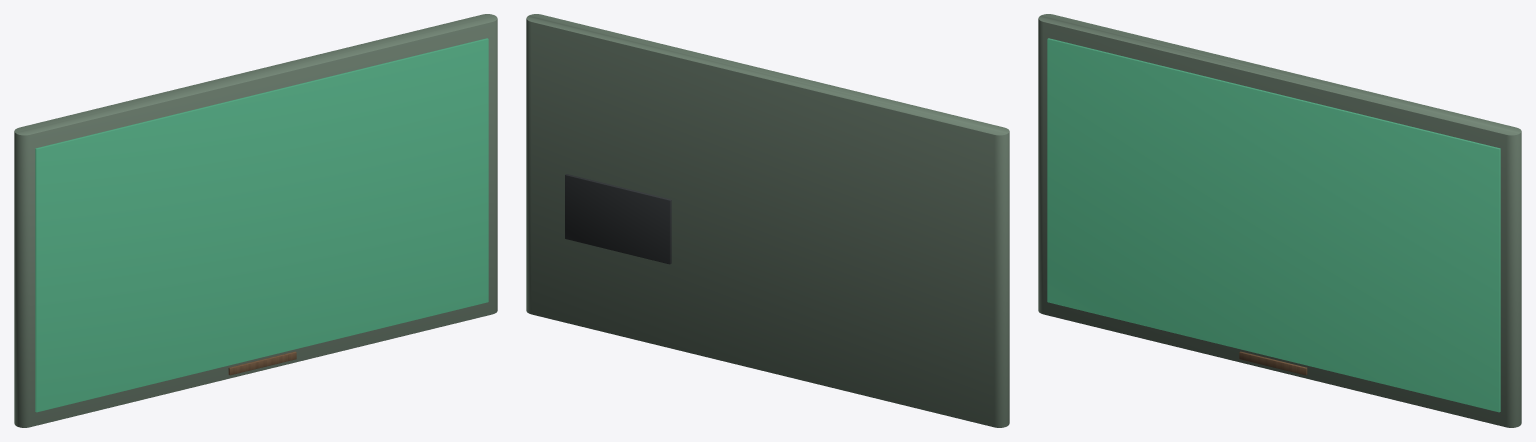
Rendered from display_tv_high_end.glb.
3 renders of one model, left to right at view 1: azimuth 30°, elevation 25°; view 2: azimuth 150°, elevation 25°; view 3: azimuth 330°, elevation 25°, orthographic.
Parts seen in each view (by area): view 1: DisplayTV_Screen, DisplayTV_Back, DisplayTV_CommercialBadge; view 2: DisplayTV_Back, DisplayTV_InputPanel; view 3: DisplayTV_Screen, DisplayTV_Back, DisplayTV_CommercialBadge.
Boxes of the visible parts, bbox=[...] form: DisplayTV_Screen: bbox=[35, 38, 488, 412]; DisplayTV_Back: bbox=[14, 14, 497, 427]; DisplayTV_CommercialBadge: bbox=[228, 351, 296, 375]; DisplayTV_Back: bbox=[526, 14, 1009, 427]; DisplayTV_InputPanel: bbox=[565, 174, 671, 264]; DisplayTV_Screen: bbox=[1047, 38, 1500, 412]; DisplayTV_Back: bbox=[1038, 14, 1521, 427]; DisplayTV_CommercialBadge: bbox=[1239, 351, 1307, 375].
Size of what is drawn, in the model's own units: 1.58 by 0.92 by 0.0786.
4 materials, 1 textured.
